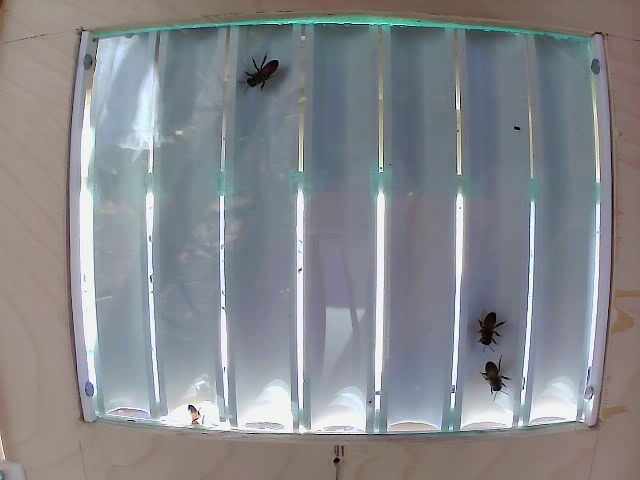bee: (482, 353, 526, 408), (246, 55, 298, 94), (481, 303, 512, 350)
